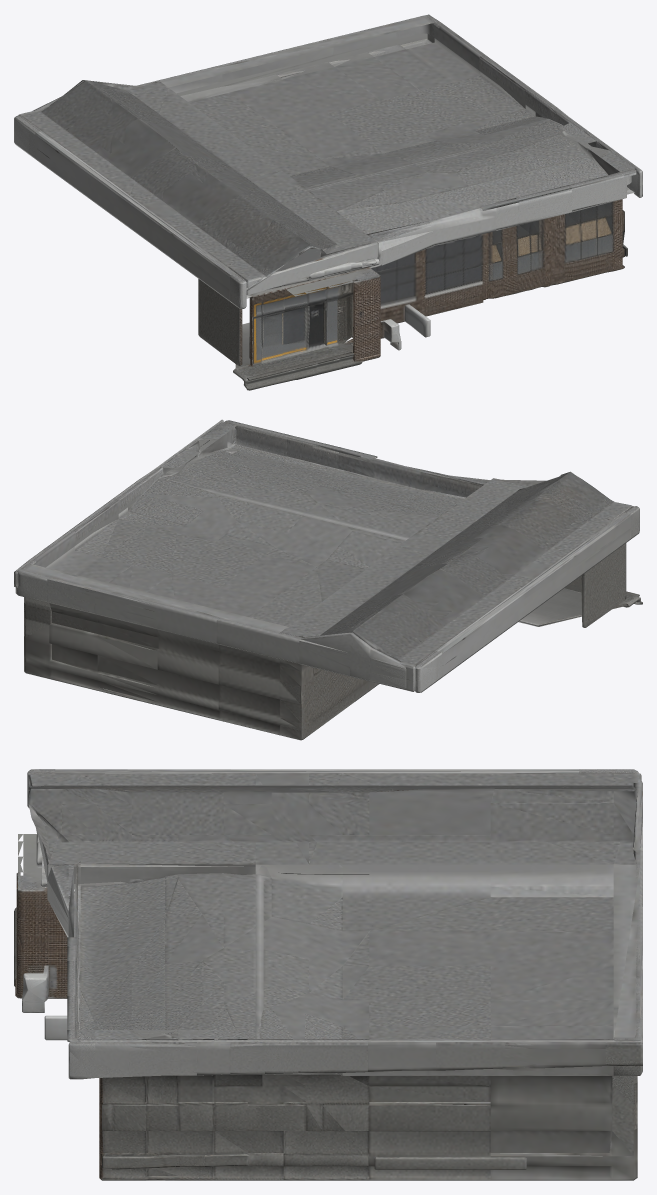
File: convini.glb
3 renders of one model, top to bottom at view 1: azimuth 30°, elevation 25°; view 2: azimuth 150°, elevation 25°; view 3: azimuth 270°, elevation 25°, orthographic. The views are drawn at different scales.
Parts seen in each view (by area): view 1: mesh_node; view 2: mesh_node; view 3: mesh_node.
Part boxes in pixels (bbox=[...]): mesh_node: bbox=[14, 14, 642, 390]; mesh_node: bbox=[14, 419, 642, 740]; mesh_node: bbox=[14, 769, 642, 1180].
Bounding box in the file's own units: 1.9 × 0.5479 × 1.84.
Materials: 1 (1 with a texture image).
